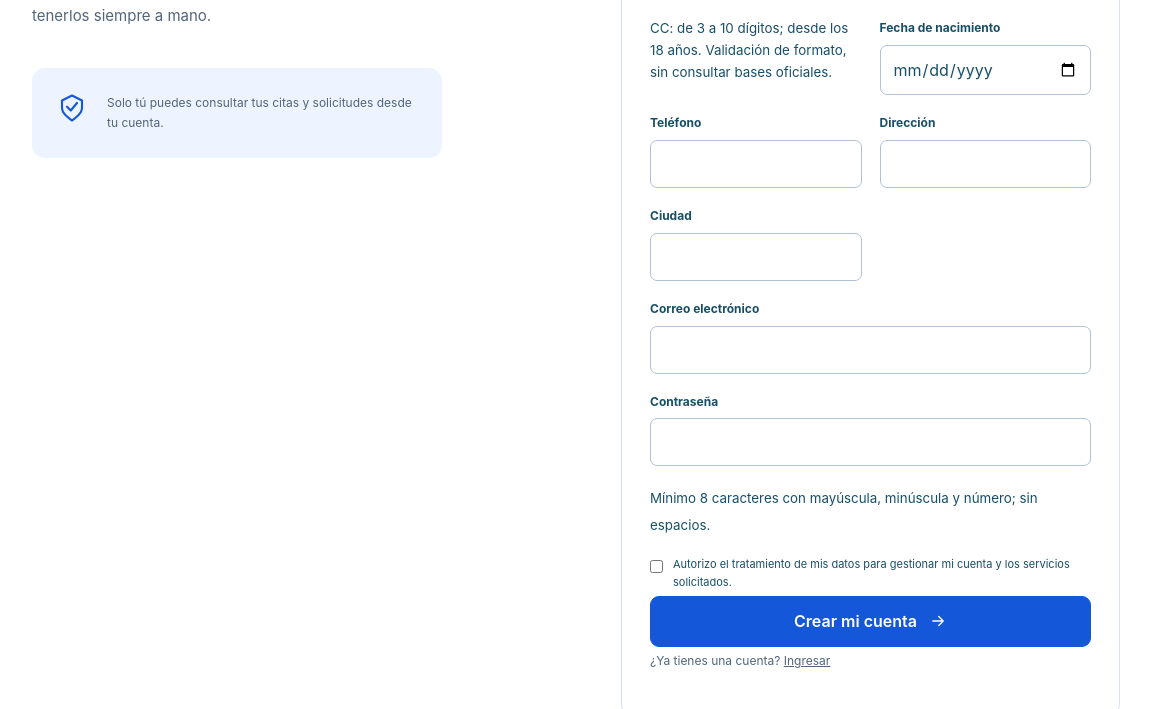
Test: registro inválido muestra la regla sin enviar datos a la API
The width and height of the screenshot is (1152, 709).
(page scrolled)
Type "persona@example.test" into the field labelled "Correo electrónico".
click(870, 350); type("persona@example.test")  # box [650, 326, 1091, 374]
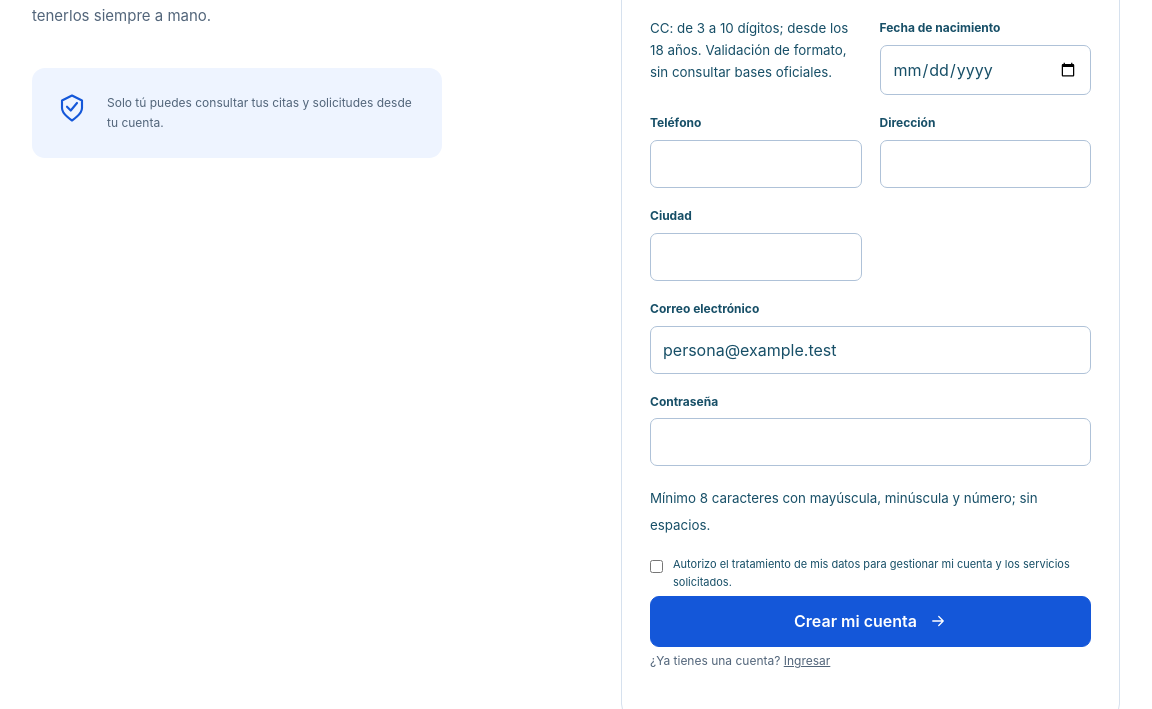
Type "Prueba123!" into the password field labelled "Contraseña".
click(870, 442); type("Prueba123!")  # box [650, 418, 1091, 466]
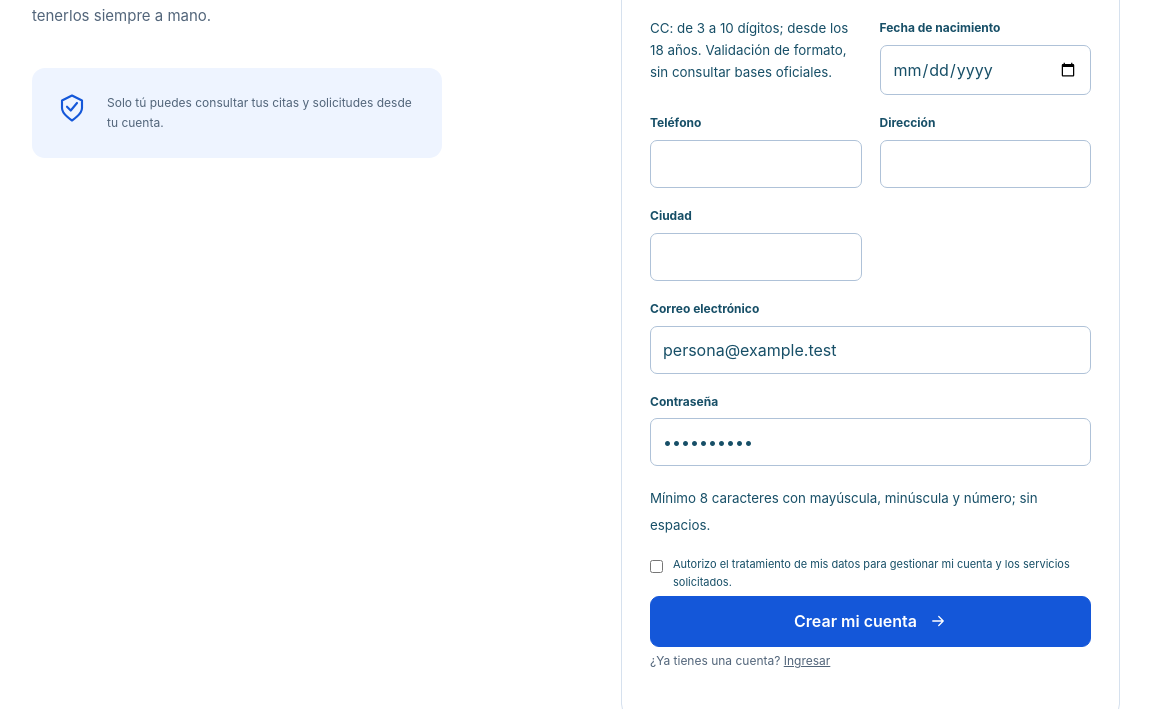
Click the button "Crear mi cuenta".
click(870, 622)  # box [650, 596, 1091, 647]
(page scrolled)
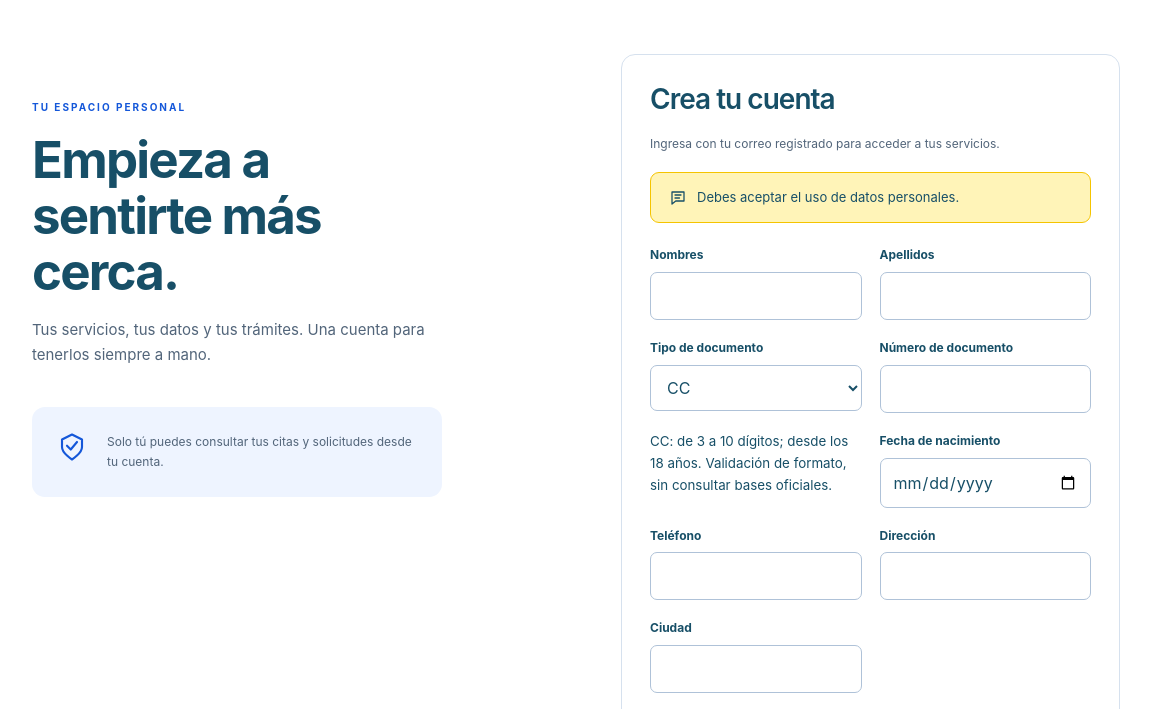
Now the message shows "datos personales", box [697, 189, 959, 205]
